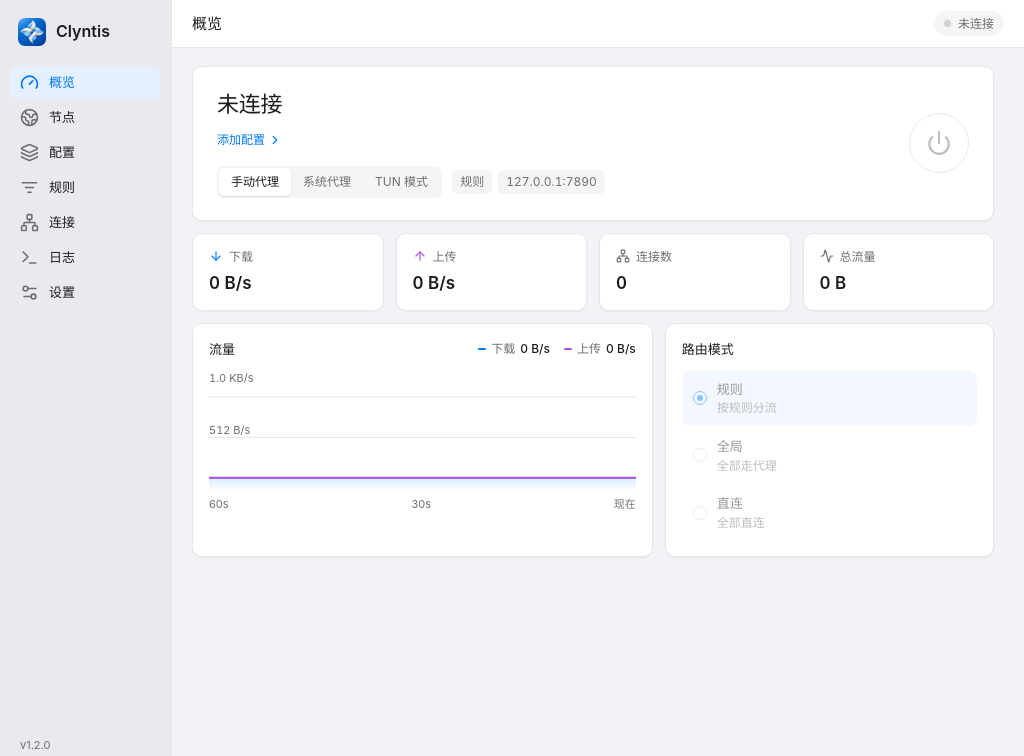
Test: desktop workflows › keeps unsaved settings when the backend pushes other changes
This screenshot has width=1024, height=756.
Step 1. Click the button "设置" → (86, 292), box [10,276,161,309]
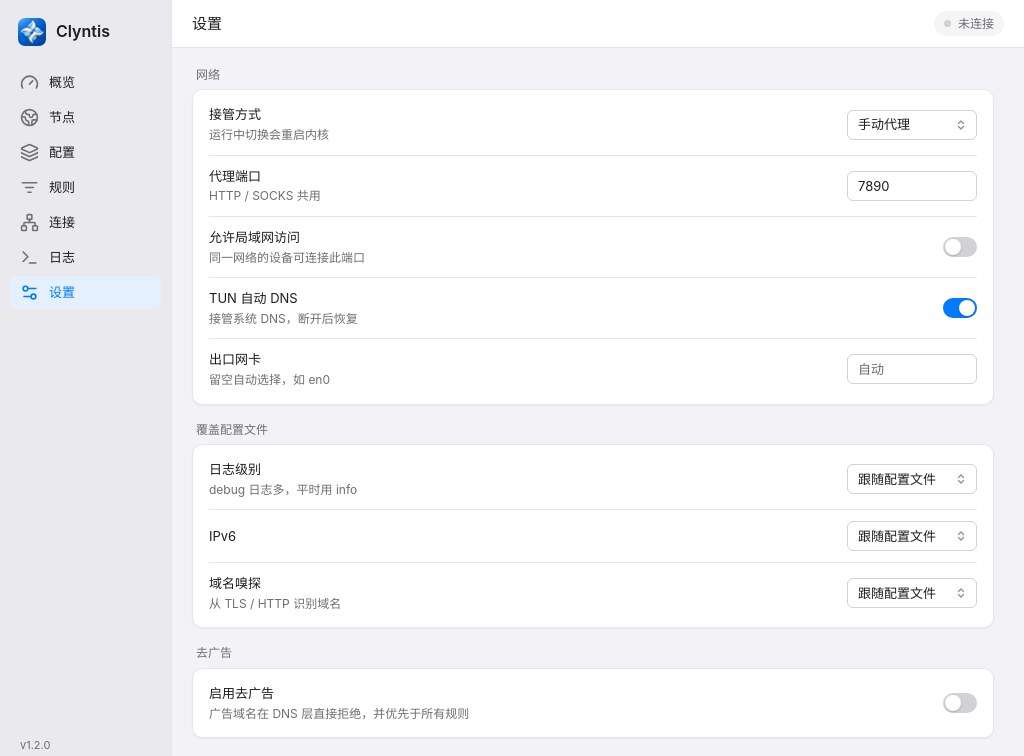
Step 2. Replace the text in the number field showing "7890" with "7891" → (912, 186), box [847,171,977,201]
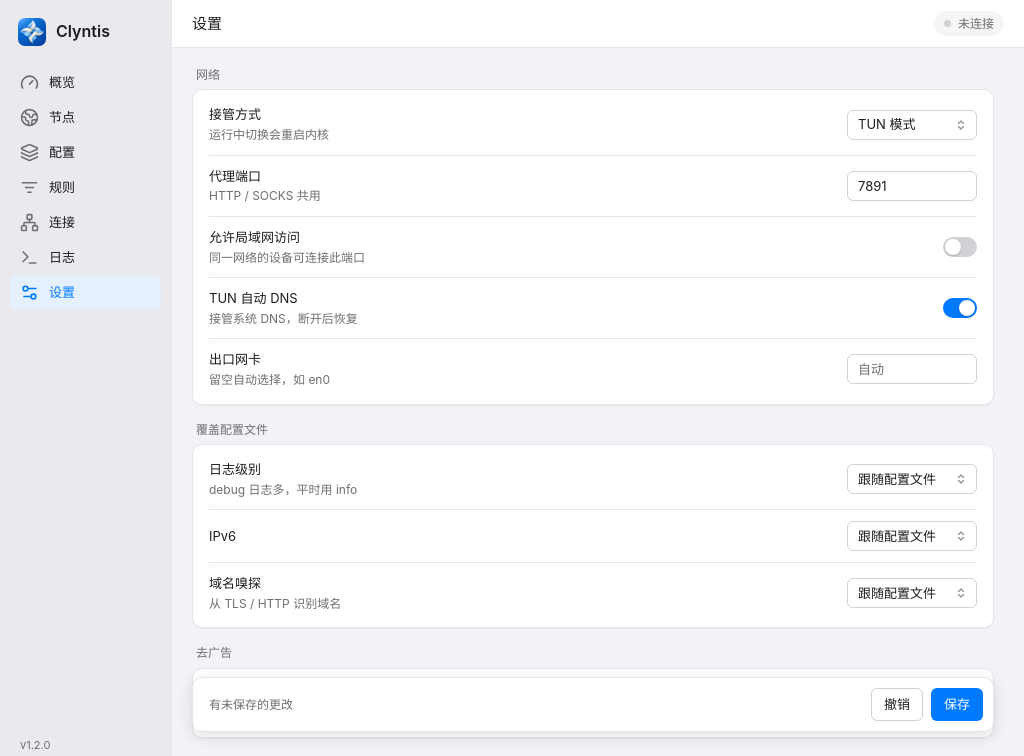
Now the dropdown showing "TUN 模式" in the row of "运行中切换会重启内核" is shown, box [847,110,977,140]
